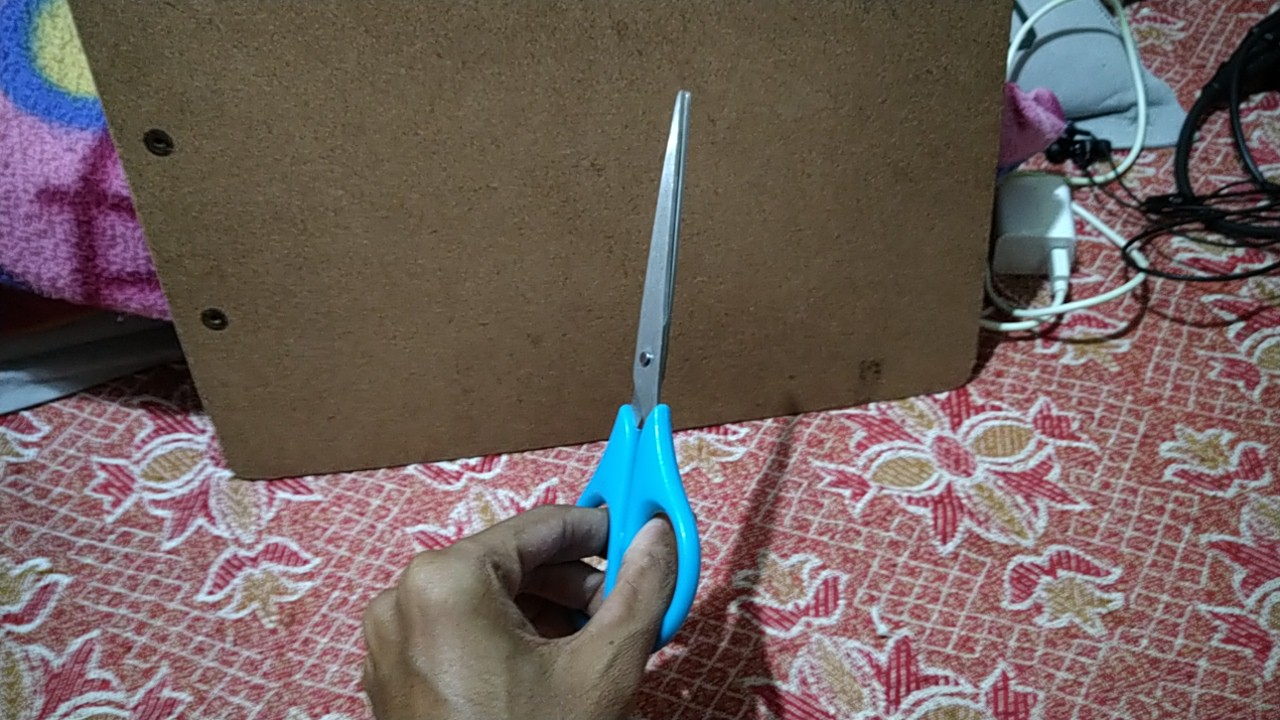scissor: (565, 78, 725, 655)
